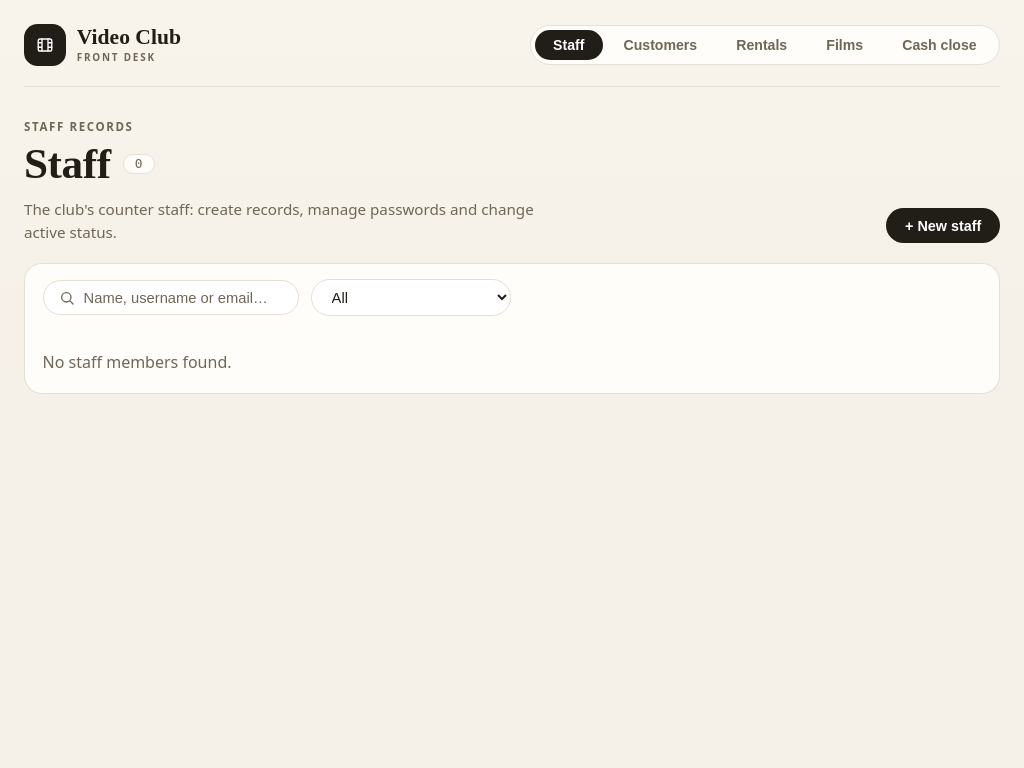
Cash close view › surfaces a fetch error without rendering an empty table
Step 1. Click the tab "Cash close" → (939, 45), box top-left (884, 30), bottom-right (995, 60)
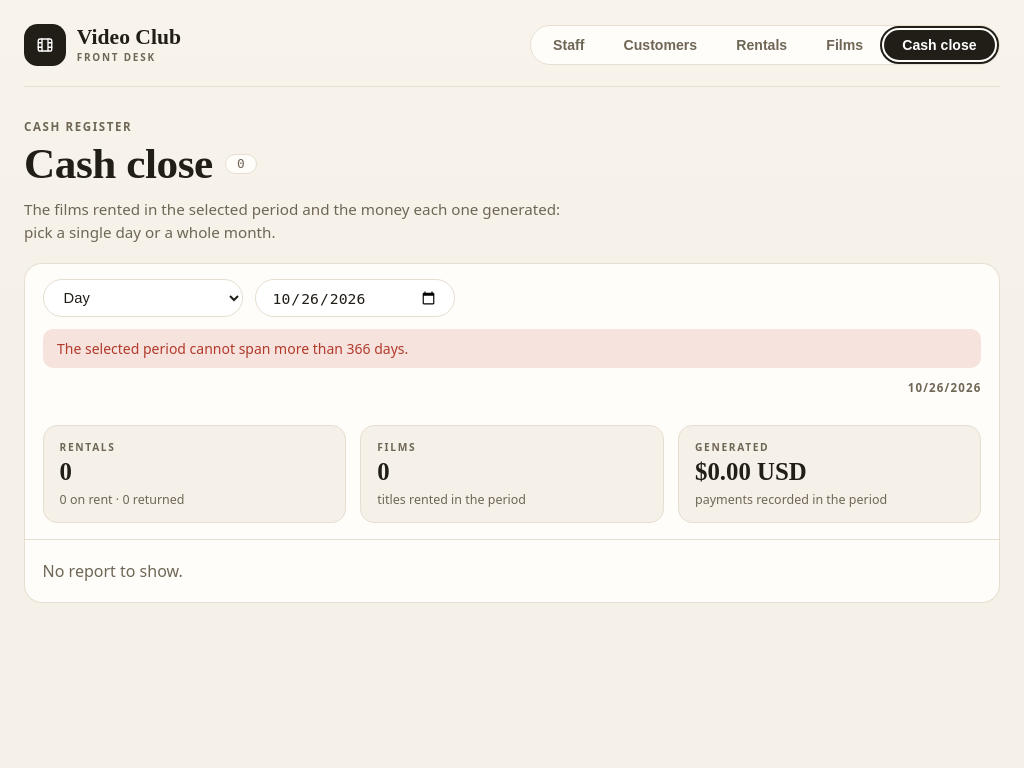
Expected: the text "The selected period cannot span more than 366 days." is shown, top-left (43, 329), bottom-right (981, 368)
Expected: the text "No report to show." is shown, top-left (43, 560), bottom-right (183, 582)
